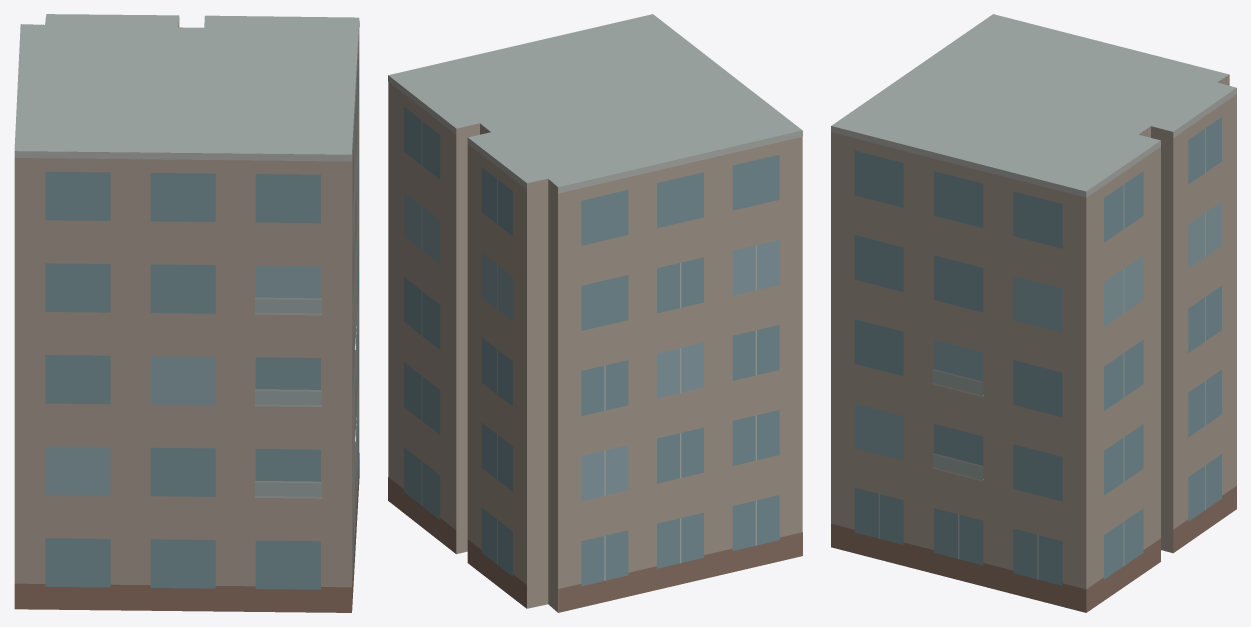
File: survey-upis-32686269.glb
3 views of the same model, side by side, from view 1: azimuth 30°, elevation 25°; view 2: azimuth 150°, elevation 25°; view 3: azimuth 270°, elevation 25° (orthographic). The views are drawn at different scales.
Visible parts, largest first — view 1: survey-upis-32686269.tmp; view 2: survey-upis-32686269.tmp; view 3: survey-upis-32686269.tmp.
Part boxes in pixels (x1,y1,x2,y2): survey-upis-32686269.tmp: (14, 14, 359, 612); survey-upis-32686269.tmp: (388, 14, 802, 612); survey-upis-32686269.tmp: (831, 14, 1236, 612).
Size of the model in its own units: 14.85 by 16.42 by 14.34.
